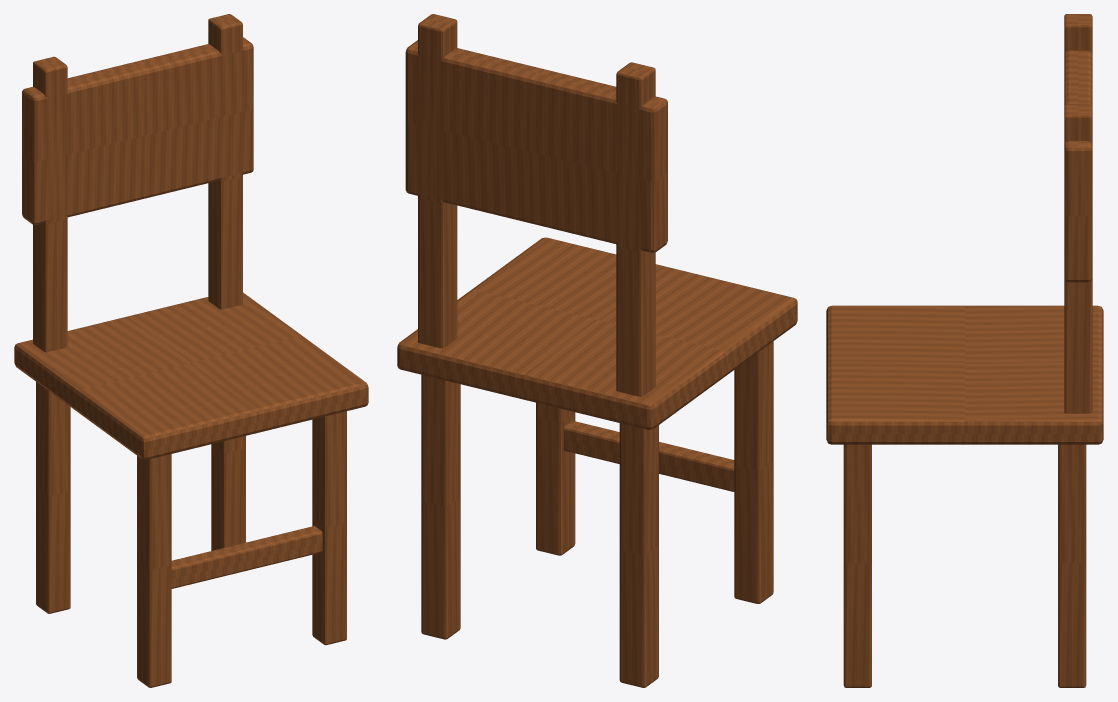
The model's file is teacher_chair.glb.
The picture shows the model from 3 angles, left to right: view 1: azimuth 30°, elevation 25°; view 2: azimuth 150°, elevation 25°; view 3: azimuth 270°, elevation 25°; orthographic projection. The views are drawn at different scales.
Visible parts, largest first — view 1: TeacherChair_Seat, TeacherChair_Backrest, TeacherChair_Back_Post, TeacherChair_Leg, TeacherChair_Leg.002, TeacherChair_Leg.001, TeacherChair_Back_Post.001, TeacherChair_Lower_Rail, TeacherChair_Leg.003; view 2: TeacherChair_Seat, TeacherChair_Backrest, TeacherChair_Back_Post, TeacherChair_Back_Post.001, TeacherChair_Leg.001, TeacherChair_Leg.003, TeacherChair_Leg, TeacherChair_Leg.002, TeacherChair_Lower_Rail; view 3: TeacherChair_Seat, TeacherChair_Leg.002, TeacherChair_Leg.003, TeacherChair_Backrest, TeacherChair_Back_Post.001, TeacherChair_Back_Post.
Part boxes in pixels (x1=…): TeacherChair_Seat: x1=14, y1=292, x2=368, y2=459; TeacherChair_Backrest: x1=22, y1=37, x2=253, y2=224; TeacherChair_Back_Post: x1=33, y1=56, x2=67, y2=352; TeacherChair_Leg: x1=137, y1=454, x2=171, y2=687; TeacherChair_Leg.002: x1=312, y1=411, x2=346, y2=645; TeacherChair_Leg.001: x1=36, y1=382, x2=70, y2=613; TeacherChair_Back_Post.001: x1=208, y1=14, x2=242, y2=309; TeacherChair_Lower_Rail: x1=171, y1=526, x2=322, y2=588; TeacherChair_Leg.003: x1=211, y1=436, x2=245, y2=550; TeacherChair_Seat: x1=397, y1=237, x2=797, y2=429; TeacherChair_Backrest: x1=405, y1=40, x2=667, y2=252; TeacherChair_Back_Post: x1=616, y1=62, x2=655, y2=396; TeacherChair_Back_Post.001: x1=418, y1=14, x2=457, y2=348; TeacherChair_Leg.001: x1=619, y1=423, x2=658, y2=687; TeacherChair_Leg.003: x1=421, y1=374, x2=460, y2=639; TeacherChair_Leg: x1=734, y1=341, x2=773, y2=603; TeacherChair_Leg.002: x1=536, y1=402, x2=575, y2=555; TeacherChair_Lower_Rail: x1=563, y1=420, x2=734, y2=491; TeacherChair_Seat: x1=826, y1=305, x2=1103, y2=444; TeacherChair_Leg.002: x1=843, y1=444, x2=871, y2=687; TeacherChair_Leg.003: x1=1058, y1=444, x2=1086, y2=687; TeacherChair_Backrest: x1=1064, y1=50, x2=1092, y2=282; TeacherChair_Back_Post.001: x1=1064, y1=104, x2=1092, y2=413; TeacherChair_Back_Post: x1=1064, y1=14, x2=1092, y2=53.
Size of the model in its own units: 0.44 by 1.01 by 0.44.
Materials: 1 (1 with a texture image).
